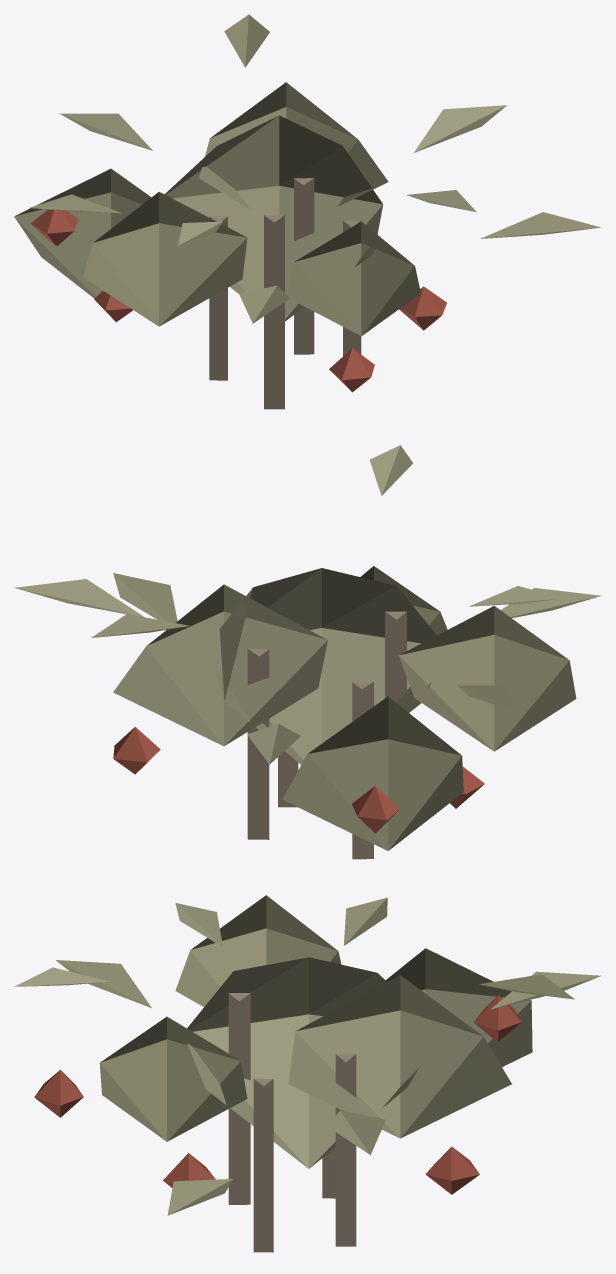
File: guan.lianqiao@fruiting__winter.glb
3 renders of one model, top to bottom at view 1: azimuth 30°, elevation 25°; view 2: azimuth 150°, elevation 25°; view 3: azimuth 270°, elevation 25°, orthographic. The views are drawn at different scales.
Parts seen in each view (by area): view 1: guan.lianqiao@fruiting__winter; view 2: guan.lianqiao@fruiting__winter; view 3: guan.lianqiao@fruiting__winter.
Part boxes in pixels (x1,y1,x2,y2): guan.lianqiao@fruiting__winter: [14, 14, 600, 409]; guan.lianqiao@fruiting__winter: [14, 445, 601, 859]; guan.lianqiao@fruiting__winter: [14, 895, 601, 1252].
Bounding box in the file's own units: 3.08 × 1.6 × 3.03.
